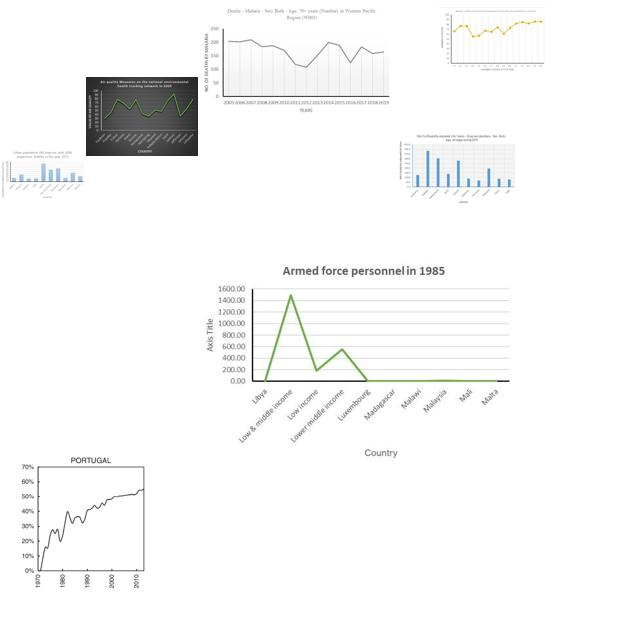Graph: (200, 258, 515, 465), (199, 5, 393, 115), (16, 453, 151, 592), (86, 77, 198, 156), (398, 133, 516, 206), (438, 7, 546, 74), (0, 150, 85, 200)
